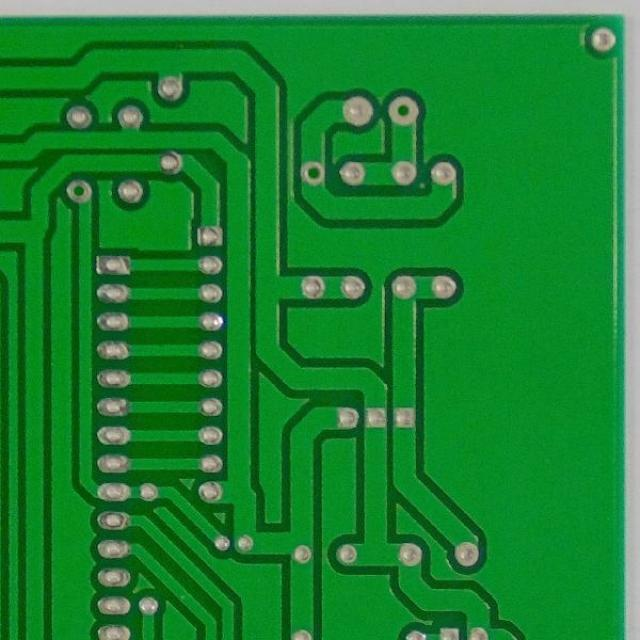Missing_Hole: (386, 95, 419, 128), (65, 179, 94, 206), (298, 161, 324, 187)
